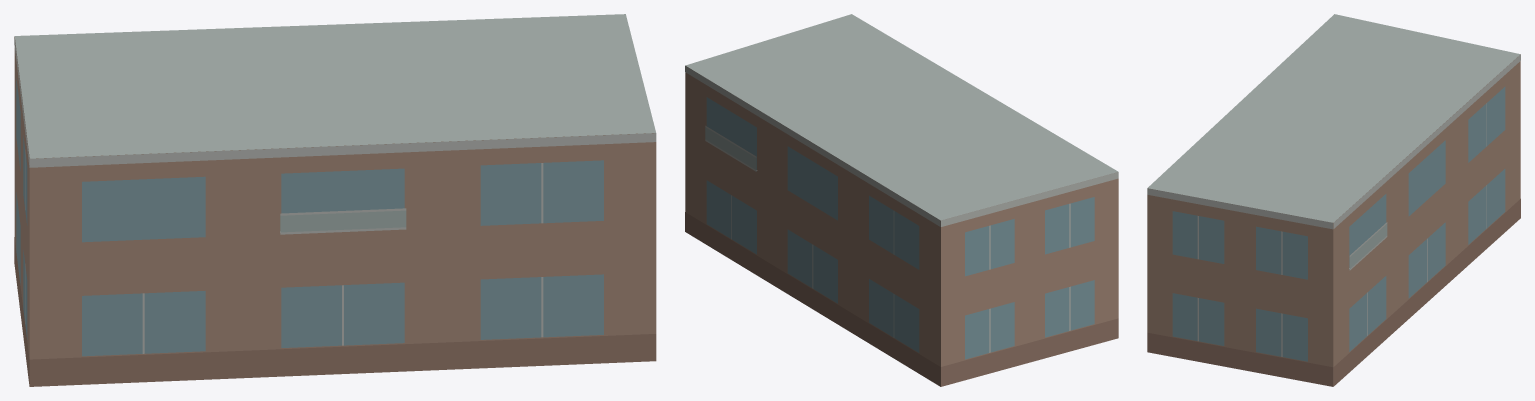
File: survey-upis-32911904.glb
3 views of the same model, side by side, from view 1: azimuth 30°, elevation 25°; view 2: azimuth 150°, elevation 25°; view 3: azimuth 270°, elevation 25° (orthographic). The views are drawn at different scales.
Parts seen in each view (by area): view 1: survey-upis-32911904.tmp; view 2: survey-upis-32911904.tmp; view 3: survey-upis-32911904.tmp.
Boxes of the visible parts, left/top/right/bottom form: survey-upis-32911904.tmp: left=14, top=14, right=656, bottom=386; survey-upis-32911904.tmp: left=685, top=14, right=1118, bottom=386; survey-upis-32911904.tmp: left=1147, top=14, right=1520, bottom=386.
Bounding box in the file's own units: 16.67 × 6.1 × 12.6.
